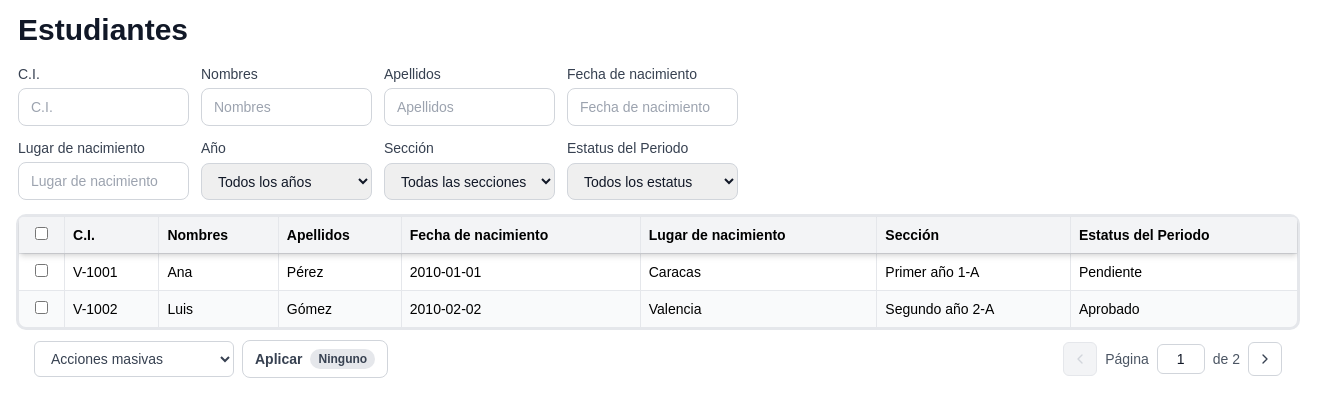
Test case: Students page › selects records and renders caller-owned bulk action metadata
Click the checkbox named "Seleccionar Ana Pérez" at (42, 270), box x1=35 y1=264 x2=48 y2=277
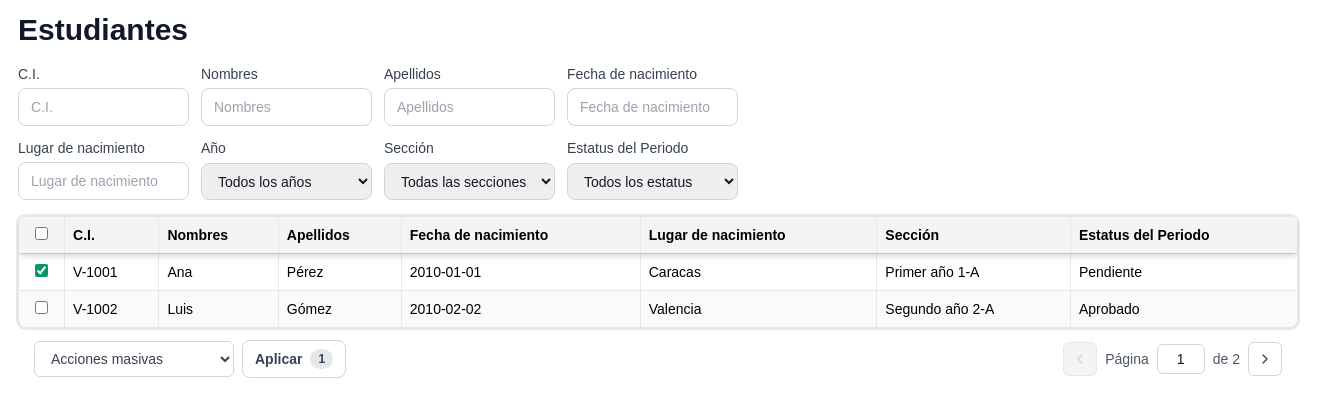
Result: the text "1" is shown at x1=310 y1=349 x2=333 y2=369
Click the checkbox named "Seleccionar todos" at (42, 234), box x1=35 y1=227 x2=48 y2=240
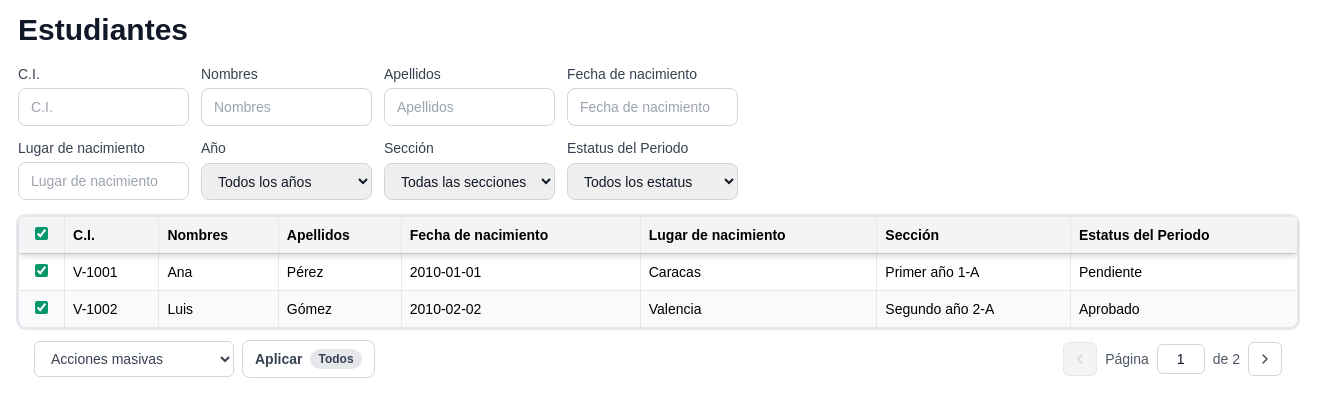
Result: the text "Todos" is shown at x1=310 y1=349 x2=362 y2=369
Click the checkbox named "Seleccionar todos" at (42, 234), box x1=35 y1=227 x2=48 y2=240
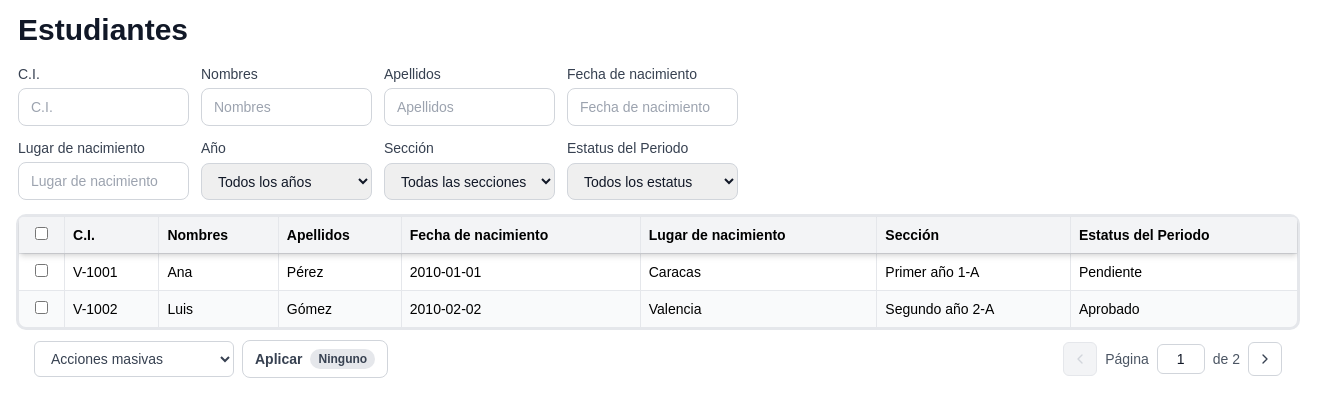
Result: the text "Ninguno" is shown at x1=310 y1=349 x2=375 y2=369
